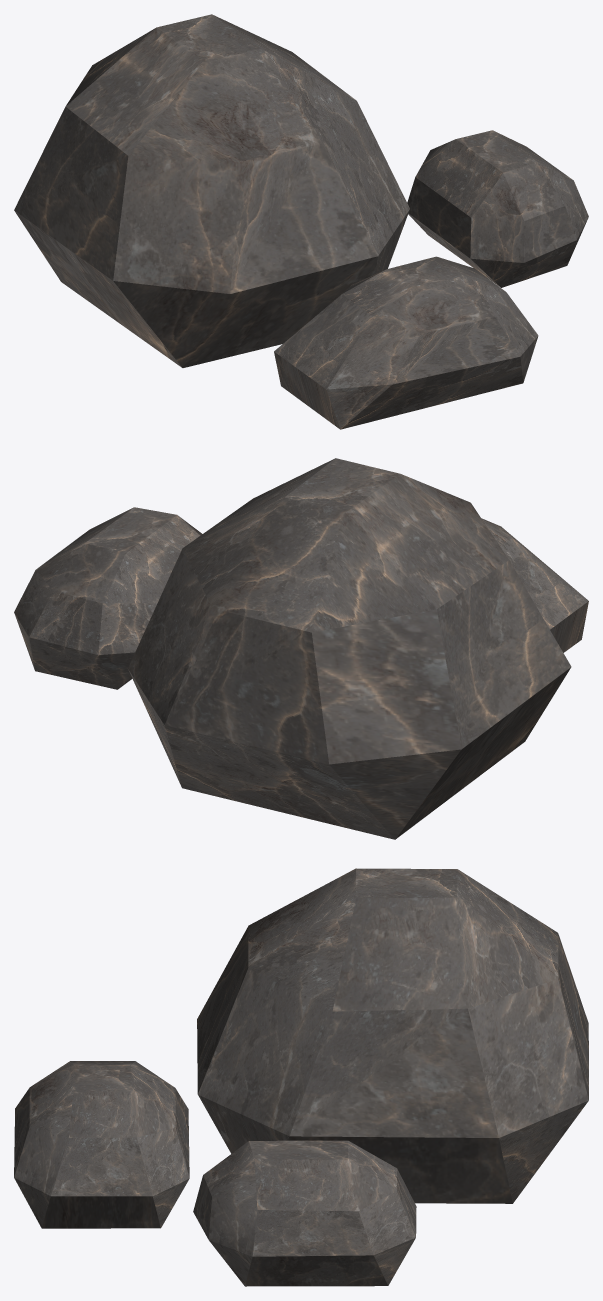
File: Rocks_Textured.fbx
3 views of the same model, one above another, from view 1: azimuth 30°, elevation 25°; view 2: azimuth 150°, elevation 25°; view 3: azimuth 270°, elevation 25° (orthographic). The views are drawn at different scales.
Parts seen in each view (by area): view 1: pCube19, pCube21, pCube20; view 2: pCube19, pCube20, pCube21; view 3: pCube19, pCube20, pCube21.
Boxes of the visible parts, x1,y1,x2,y2 form: pCube19: [14, 14, 409, 367]; pCube21: [274, 256, 538, 429]; pCube20: [407, 130, 588, 287]; pCube19: [128, 458, 571, 839]; pCube20: [14, 507, 202, 689]; pCube21: [481, 518, 588, 652]; pCube19: [197, 868, 588, 1203]; pCube20: [193, 1140, 416, 1286]; pCube21: [14, 1061, 189, 1228].
Bounding box in the file's own units: 4.51 × 2.4 × 4.6.
1 material, 1 textured.
